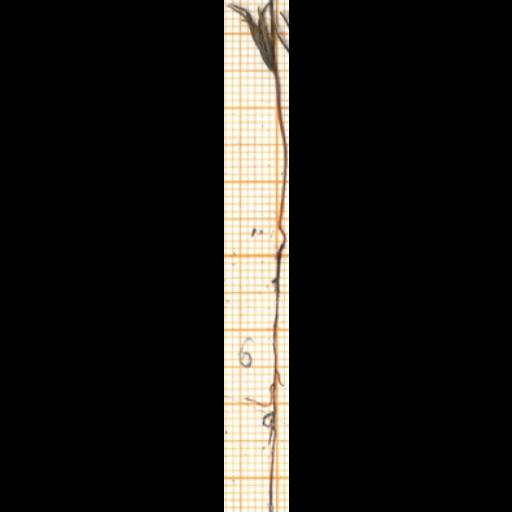flowerPinus: (227, 0, 274, 73)
rootPinus: (247, 231, 284, 511)
stemPinus: (273, 67, 288, 231)
